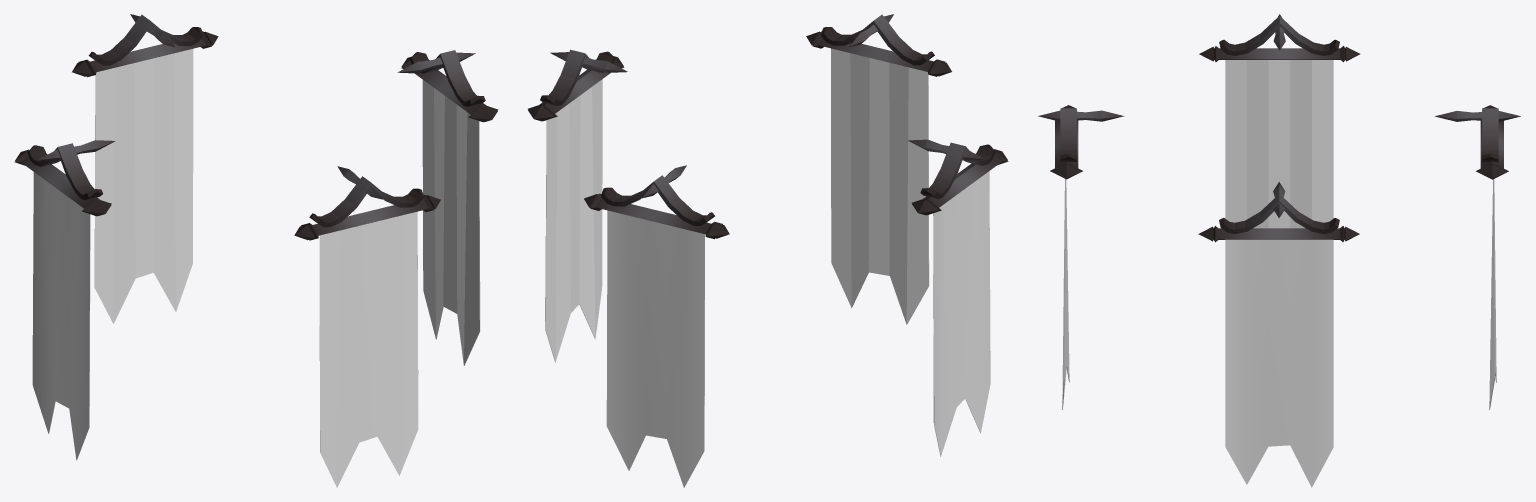
File: Tower_Flags.DAE
3 renders of one model, left to right at view 1: azimuth 30°, elevation 25°; view 2: azimuth 150°, elevation 25°; view 3: azimuth 270°, elevation 25°, orthographic. The views are drawn at different scales.
Visible parts, largest first — view 1: Flags; view 2: Flags; view 3: Flags.
Part boxes in pixels (x1,y1,x2,y2): Flags: (14, 14, 498, 487); Flags: (528, 14, 1008, 487); Flags: (1038, 14, 1520, 487).
Size of the model in its own units: 1.46 by 0.9567 by 1.46.
